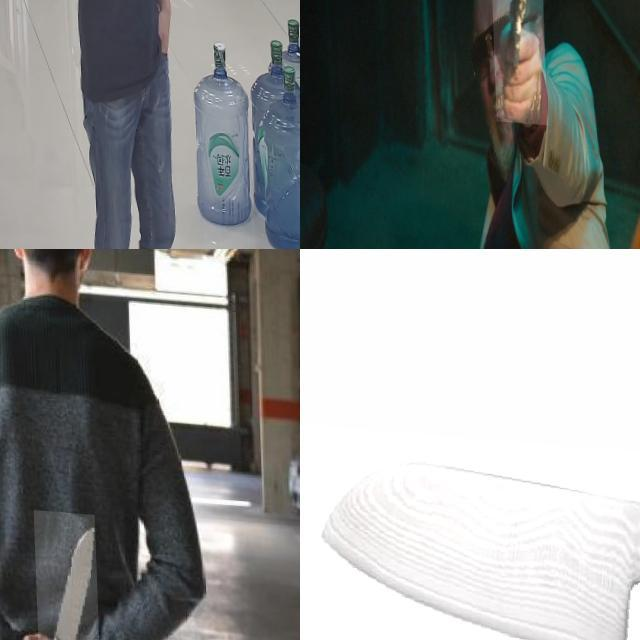-: (300, 423, 640, 640), (31, 505, 98, 640)
gun-knife-thesis - v11 Yolov5 augmented: (490, 0, 545, 120), (85, 0, 128, 40)
